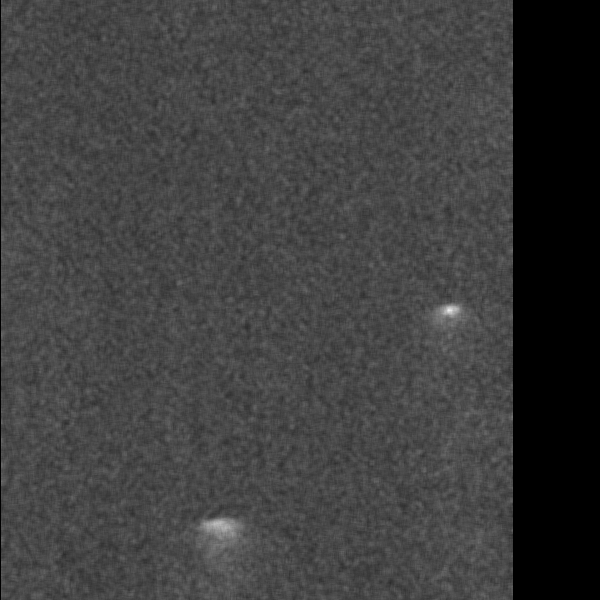spark: (466, 531, 506, 565)
